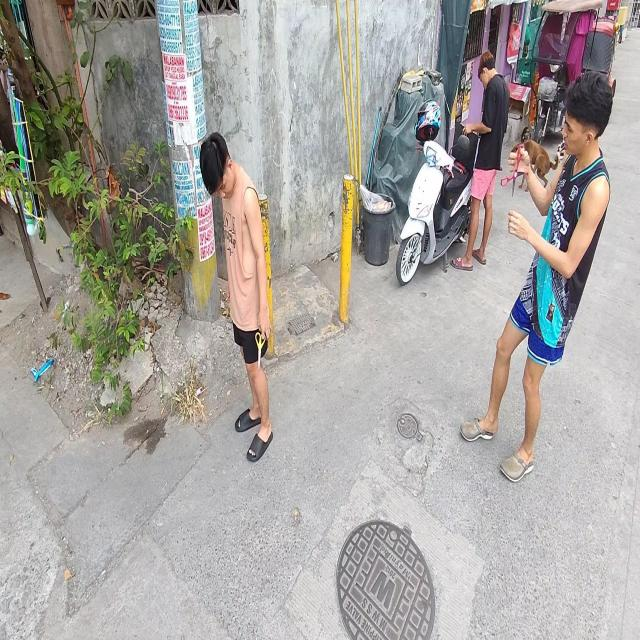scissor: (500, 144, 526, 198), (255, 332, 266, 369)
